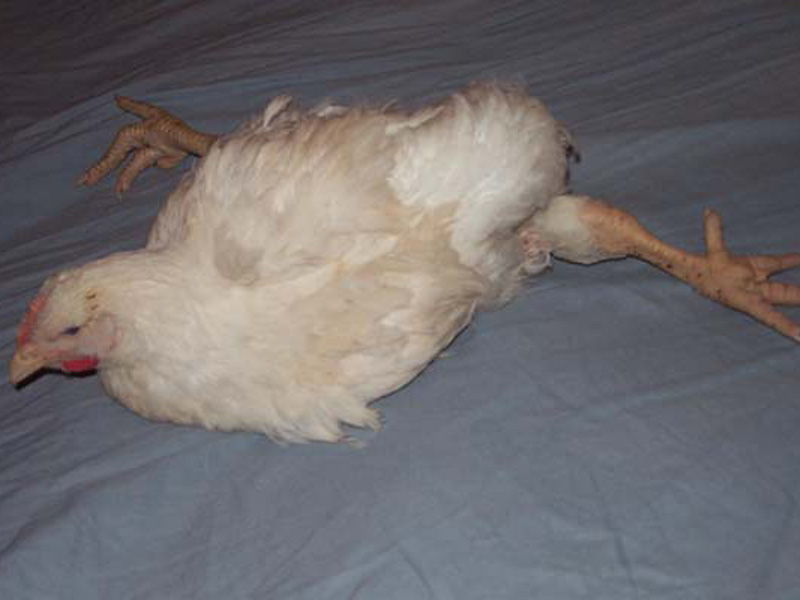Unhealthy: (9, 64, 790, 453)
